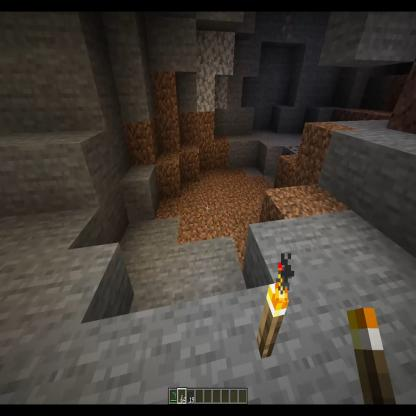iron ore: (278, 8, 299, 43)
